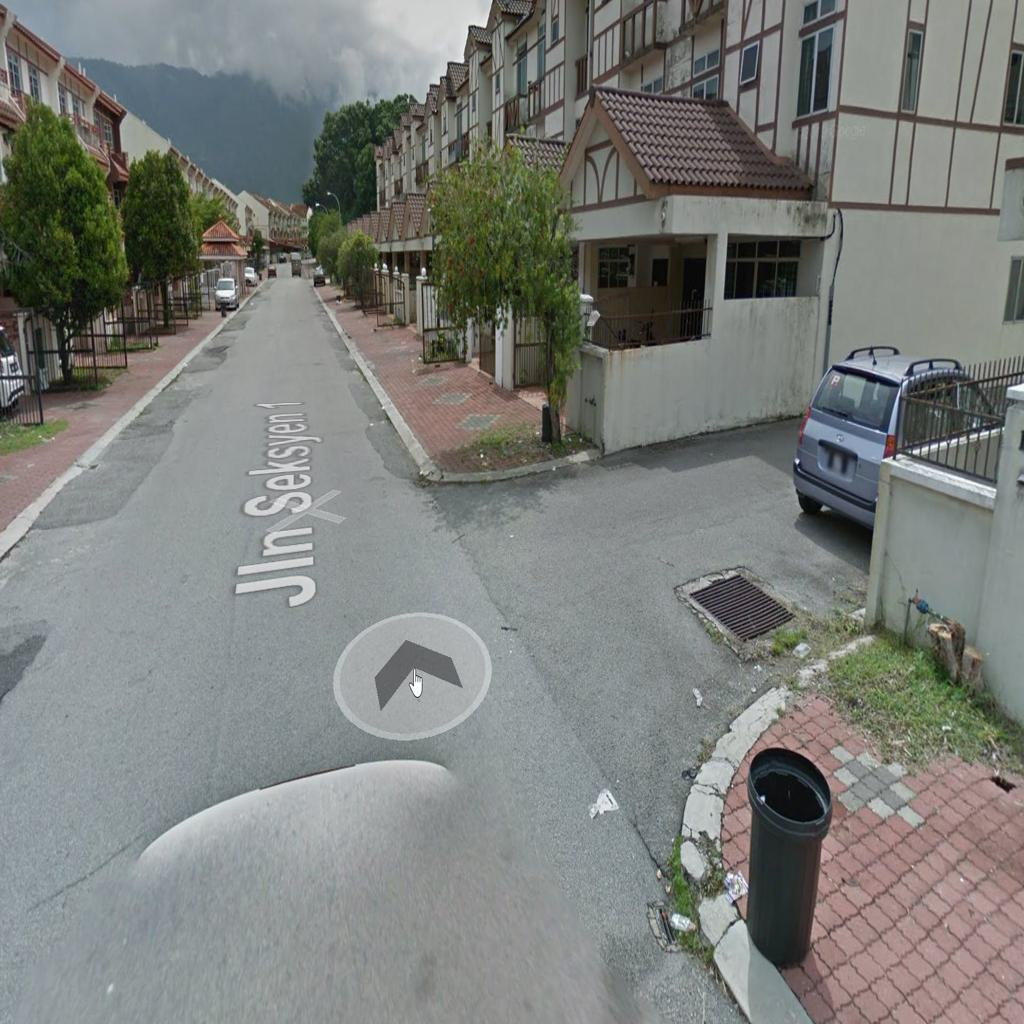Junction: (367, 417, 883, 812)
